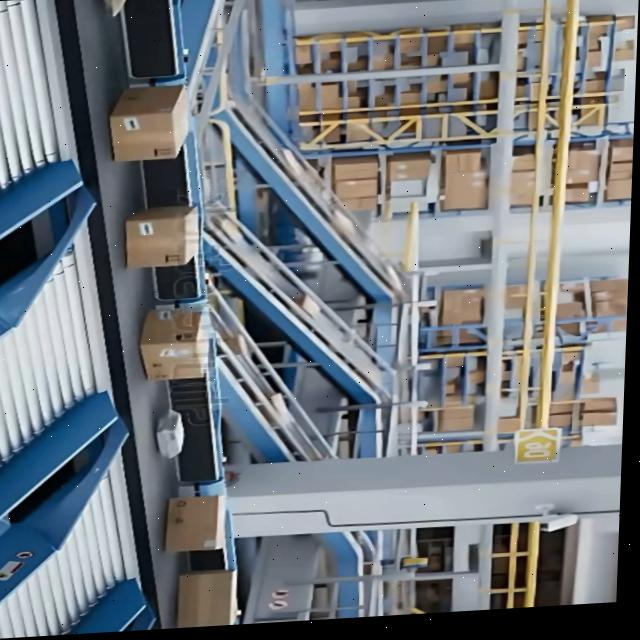product 1: (138, 305, 211, 381), (123, 204, 201, 269), (164, 493, 228, 553)
product 2: (154, 408, 187, 460)
